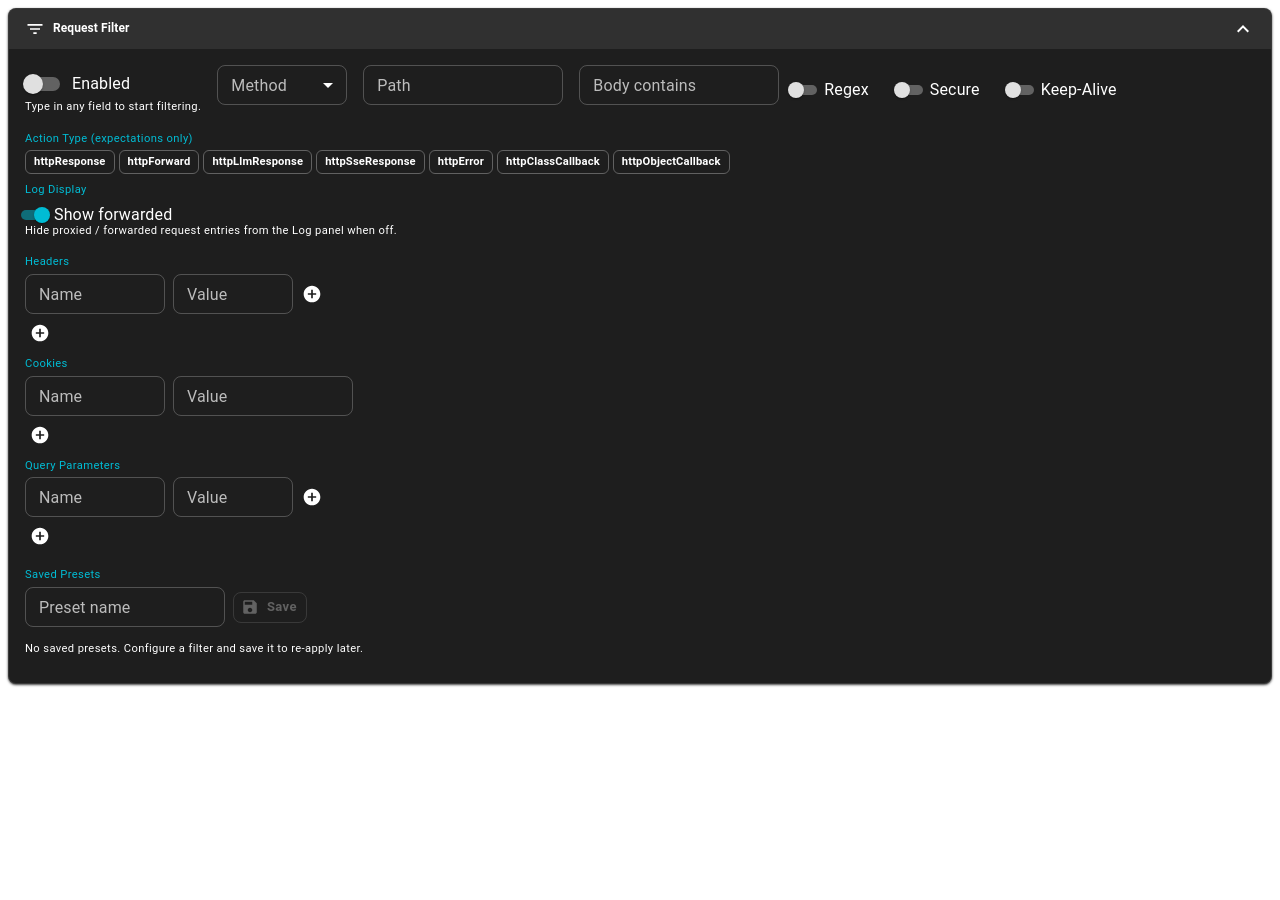
Test: FilterPanel › auto-enables filtering the first time a field is edited
Check: the text "Type in any field to start filtering." is shown, box [25,99,201,115]
Type "/api" into the field labelled "Path" at {"x": 463, "y": 85}, box [363,65,563,105]
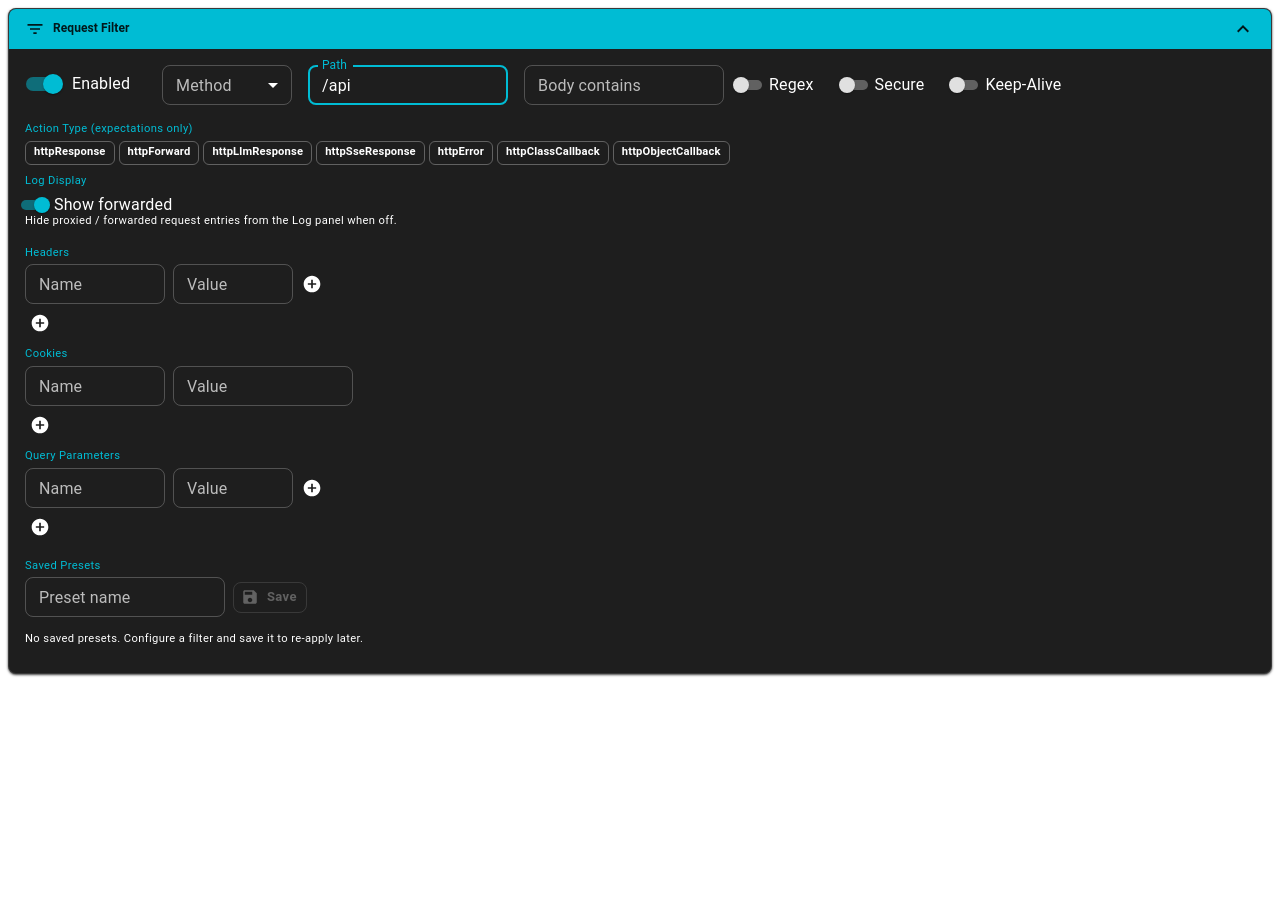
Check: the switch labelled "Enabled" is checked, box [26,74,130,94]
